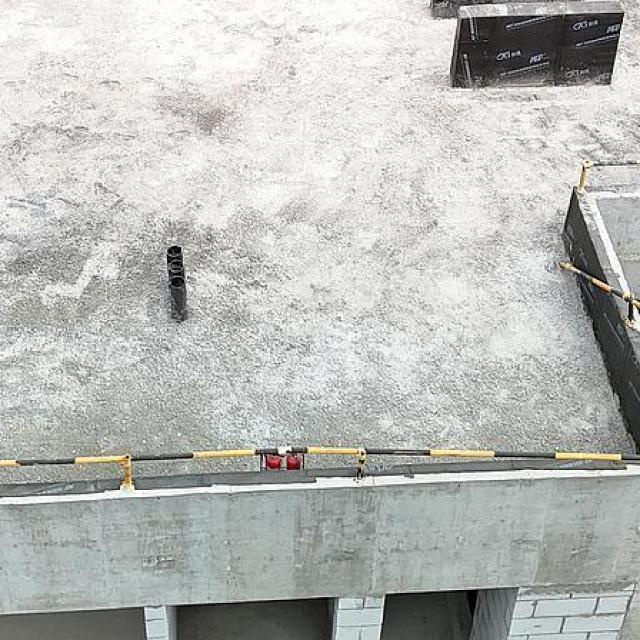edge_guardrail: (0, 443, 640, 488), (557, 260, 640, 321), (577, 159, 640, 191)
